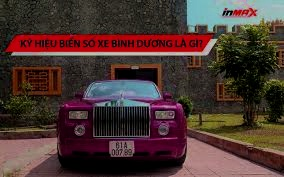Bien-so: (111, 138, 138, 154)
